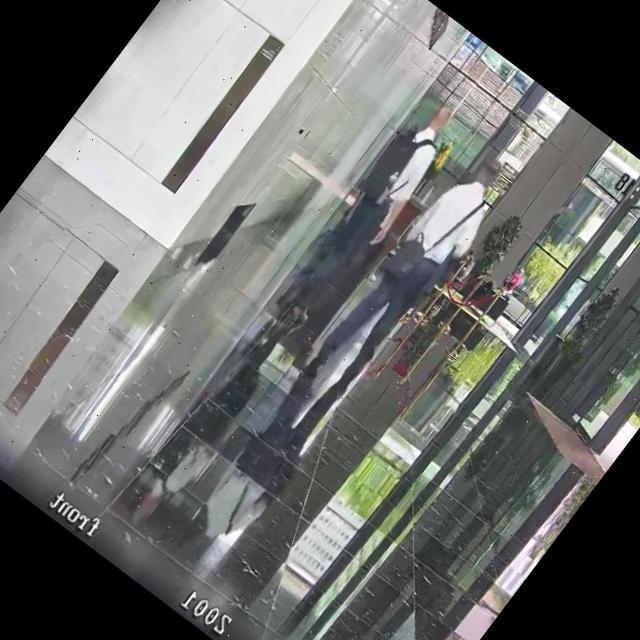person: (294, 140, 524, 415), (274, 93, 470, 331), (461, 264, 514, 320), (452, 248, 478, 279), (502, 266, 526, 294)
